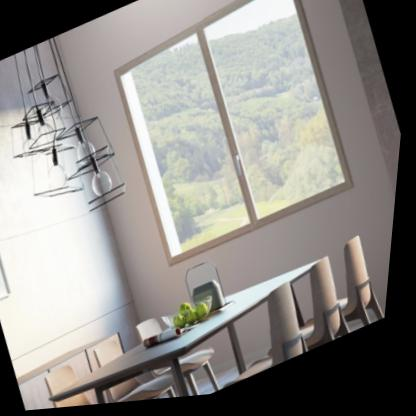Dining Table: (44, 233, 397, 411)
Window: (113, 0, 361, 276)
